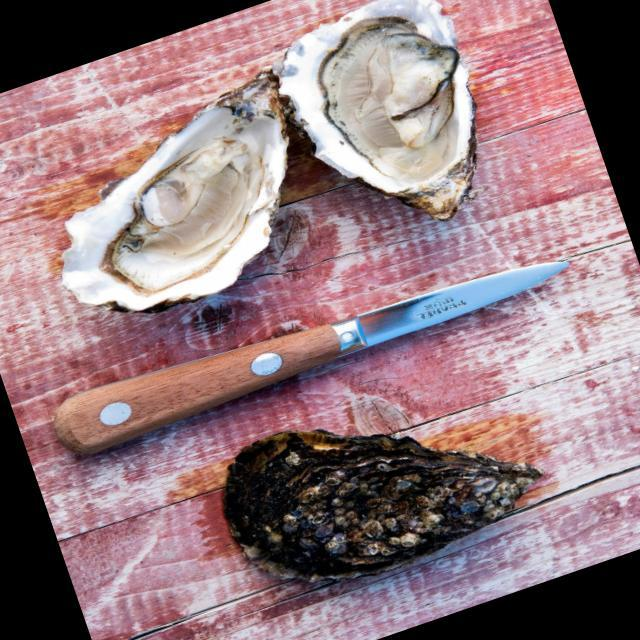Oyster- Indeterminate: (200, 354, 558, 615)
Oyster-Open: (15, 63, 339, 340), (259, 0, 511, 255)
